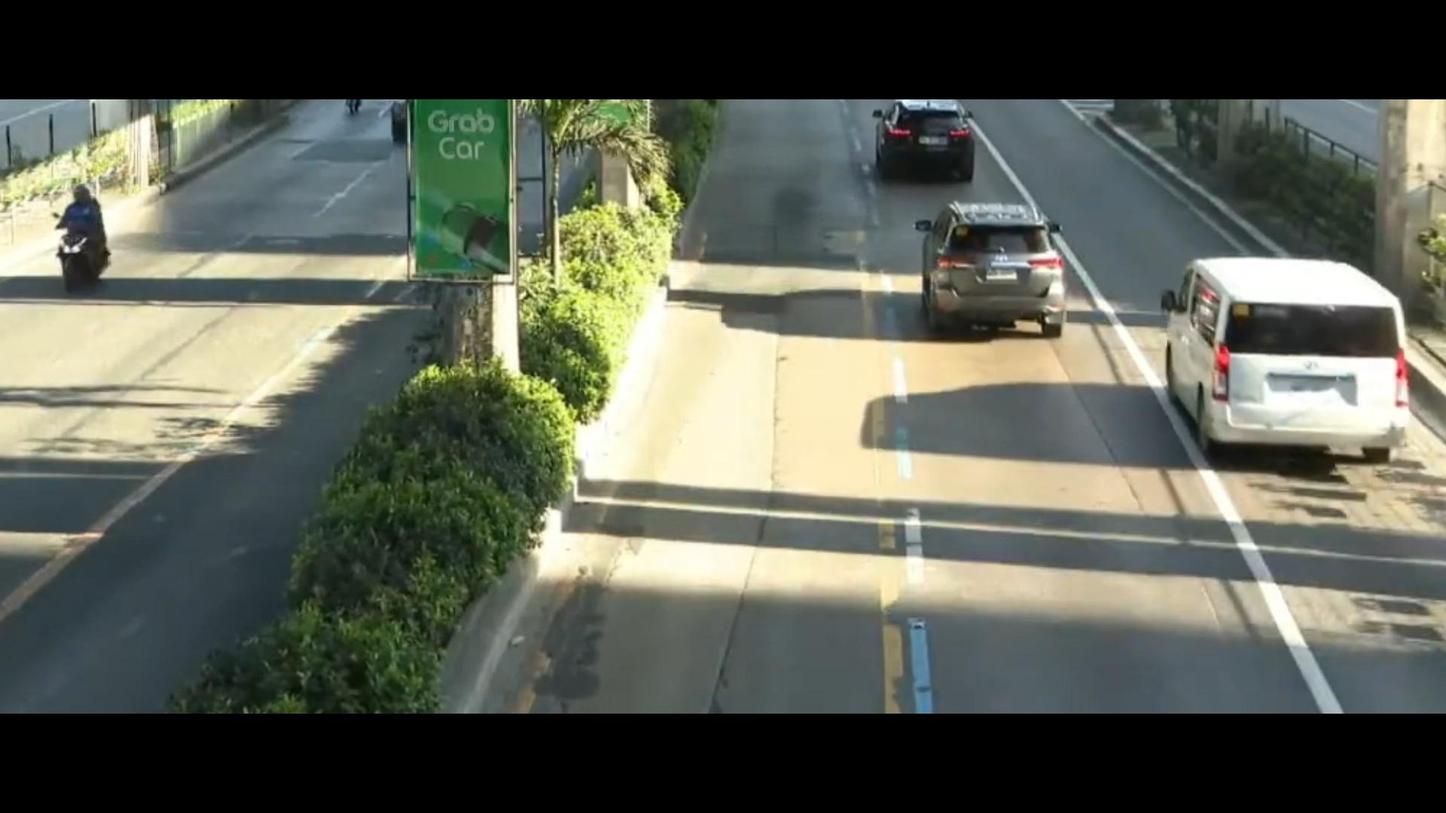Motorcycle: (30, 179, 132, 303)
SUV: (911, 200, 1084, 357), (855, 104, 999, 197)
Van: (1123, 238, 1420, 476)
